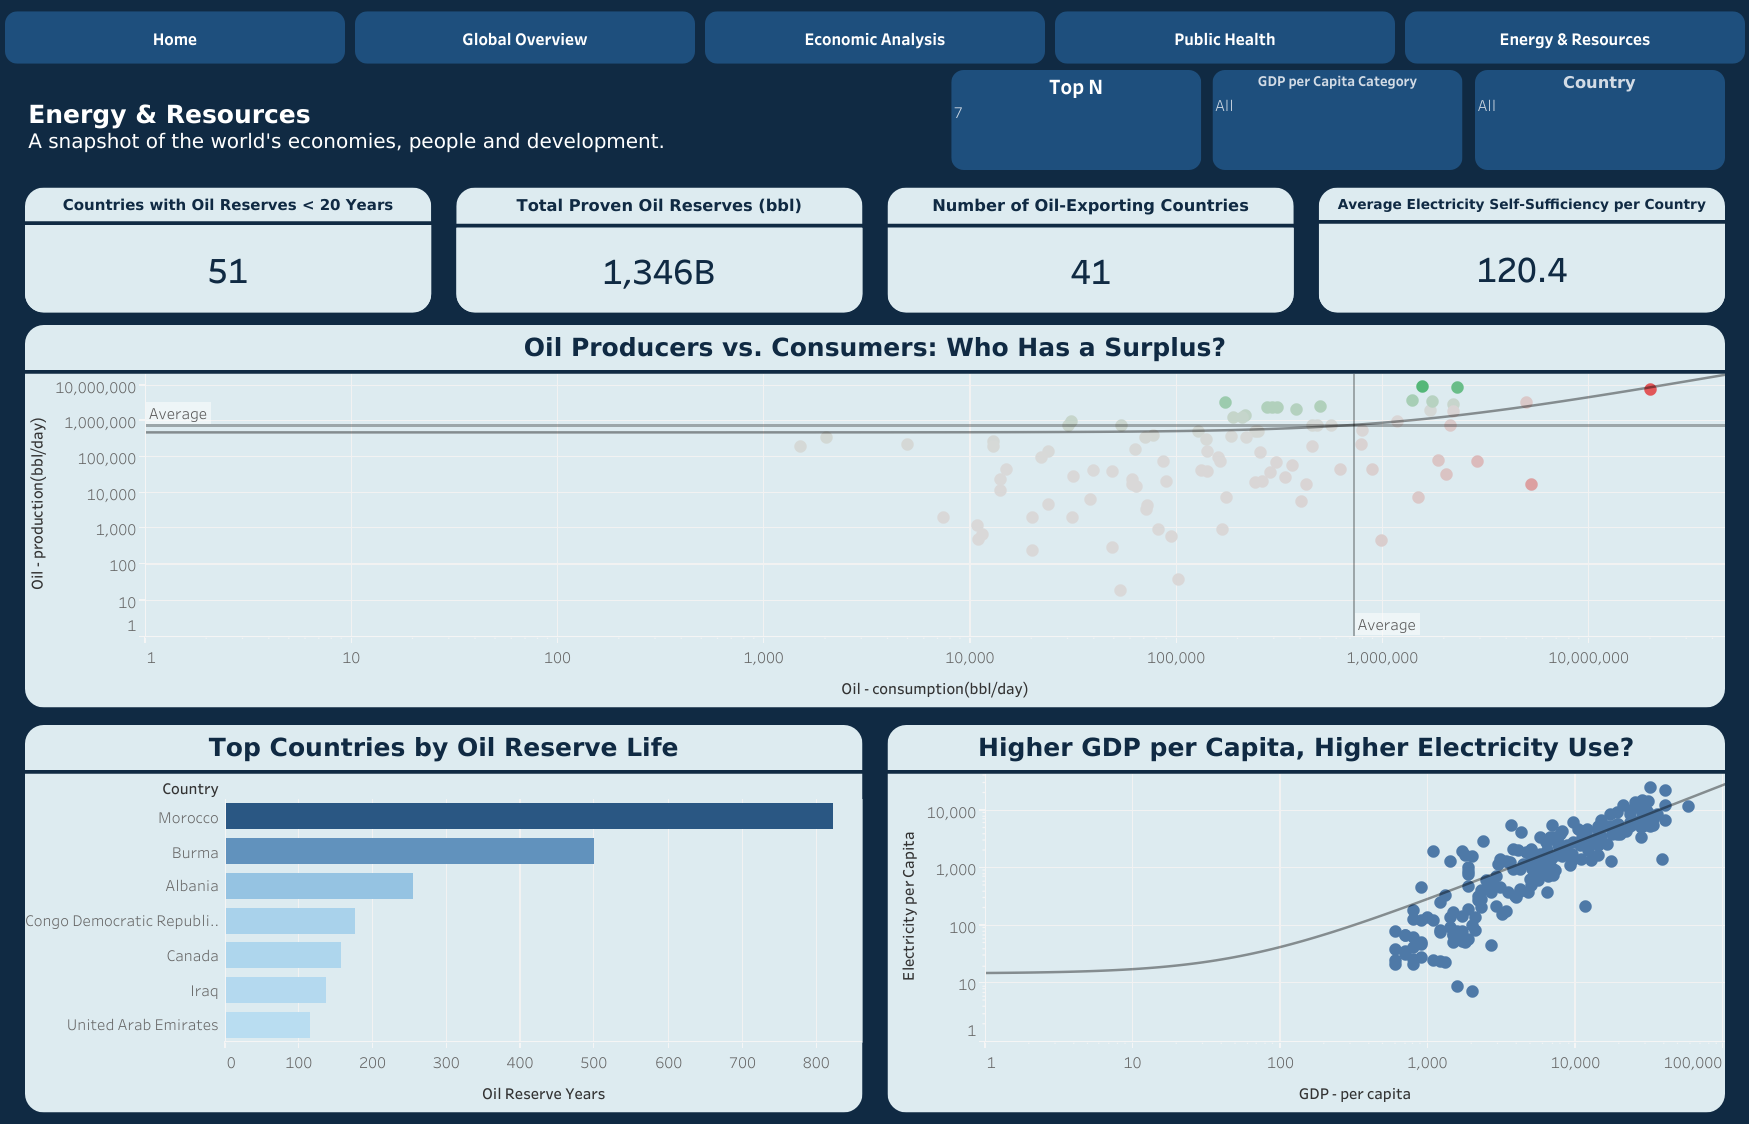

The page's visual inventory and layout, read from the dashboard file:
{"tool":"tableau","page":{"name":"Energy & Resources","canvas":[1400,900],"ordinal":1},"visuals":[{"type":"dashboard-object","box":[0,0,280,50]},{"type":"dashboard-object","box":[280,0,280,50]},{"type":"dashboard-object","box":[560,0,280,50]},{"type":"dashboard-object","box":[840,0,280,50]},{"type":"dashboard-object","box":[1120,0,280,50]},{"type":"parameter","param":"[Parameters].[Parameter 1760923653173256]","box":[761,56,200,80]},{"type":"filter","title":"Oil Production vs Consumption","param":"[federated.10twyn71v79rwr1h9lt141yk2yql].[none:Calculation_1760923649921025:nk]","box":[970,56,200,80]},{"type":"filter","title":"Oil Production vs Consumption","param":"[federated.10twyn71v79rwr1h9lt141yk2yql].[none:Country:nk]","box":[1180,56,200,80]},{"type":"text","box":[20,60,730,80]},{"type":"worksheet","title":"Countries with Oil Reserves < 20 Years","mark":"Automatic","box":[20,160,325,100]},{"type":"worksheet","title":"Total Proven Oil Reserves","mark":"Automatic","box":[365,160,325,100]},{"type":"worksheet","title":"Oil Exporting Countries","mark":"Automatic","box":[710,160,325,100]},{"type":"worksheet","title":"Electricity Self-Sufficiency (%)","mark":"Automatic","box":[1055,160,325,100]},{"type":"worksheet","title":"Oil Production vs Consumption","mark":"Circle","rows":["Oil - production(bbl/day)"],"cols":["Oil - consumption(bbl/day)"],"box":[20,270,1360,306]},{"type":"worksheet","title":"Oil Reserve Years","mark":"Bar","rows":["Country"],"cols":["Calculation_0877743113678855"],"box":[20,590,670,310]},{"type":"worksheet","title":"Electricity vs GDP per Capita","mark":"Circle","rows":["Calculation_0877743113736200"],"cols":["GDP - per capita"],"box":[710,590,670,310]}]}

Visuals, with their boxes in screenshot pixels (x1, y1, x2, y2), scaled from the page's 1400x900 canvas onto the 1749x1124 screenshot:
dashboard-object: pyautogui.locateOnScreen(0, 0, 350, 62)
dashboard-object: pyautogui.locateOnScreen(350, 0, 700, 62)
dashboard-object: pyautogui.locateOnScreen(700, 0, 1049, 62)
dashboard-object: pyautogui.locateOnScreen(1049, 0, 1399, 62)
dashboard-object: pyautogui.locateOnScreen(1399, 0, 1748, 62)
parameter: pyautogui.locateOnScreen(951, 70, 1201, 170)
"Oil Production vs Consumption" filter: pyautogui.locateOnScreen(1212, 70, 1462, 170)
"Oil Production vs Consumption" filter: pyautogui.locateOnScreen(1474, 70, 1724, 170)
text: pyautogui.locateOnScreen(25, 75, 937, 175)
"Countries with Oil Reserves < 20 Years" worksheet: pyautogui.locateOnScreen(25, 200, 431, 325)
"Total Proven Oil Reserves" worksheet: pyautogui.locateOnScreen(456, 200, 862, 325)
"Oil Exporting Countries" worksheet: pyautogui.locateOnScreen(887, 200, 1293, 325)
"Electricity Self-Sufficiency (%)" worksheet: pyautogui.locateOnScreen(1318, 200, 1724, 325)
"Oil Production vs Consumption" worksheet (Circle marks): pyautogui.locateOnScreen(25, 337, 1724, 719)
"Oil Reserve Years" worksheet (Bar marks): pyautogui.locateOnScreen(25, 737, 862, 1123)
"Electricity vs GDP per Capita" worksheet (Circle marks): pyautogui.locateOnScreen(887, 737, 1724, 1123)
